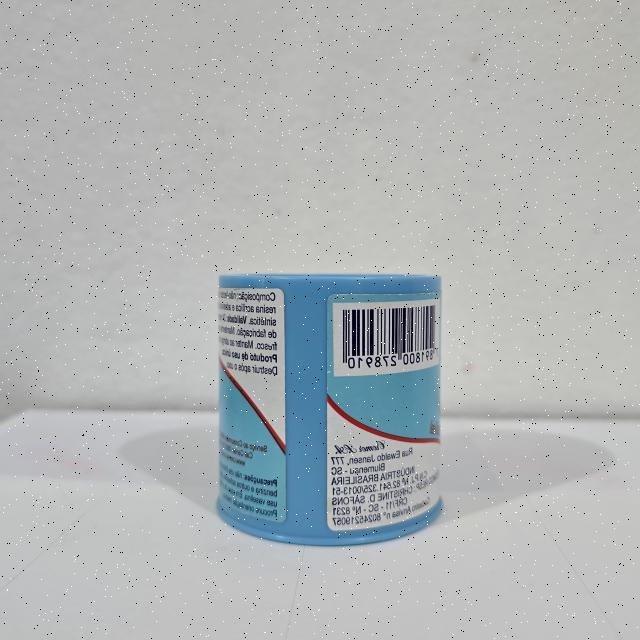procitex: (212, 272, 450, 552)
